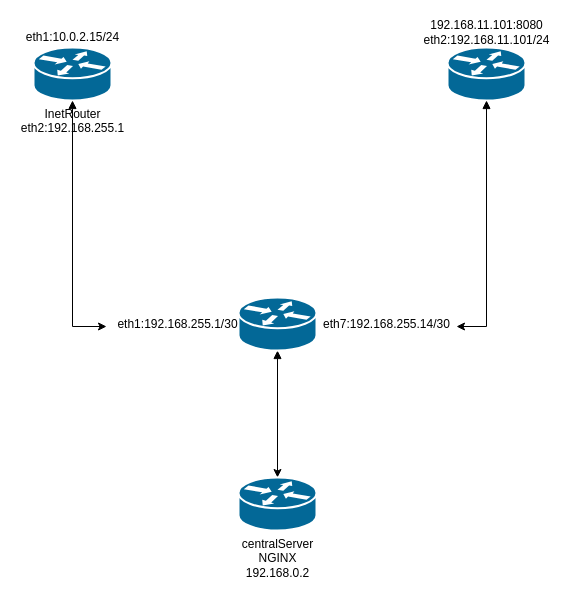
Some shapes in this 573 by 597 pixel diagram are drawn without their labels. Each missing label, with the centre of its shape:
"centralRouter eth2:192.168.0.2" goes at point (277, 323).
"inetRouter2 eth1:192.168.255.13/30" goes at point (486, 73).
